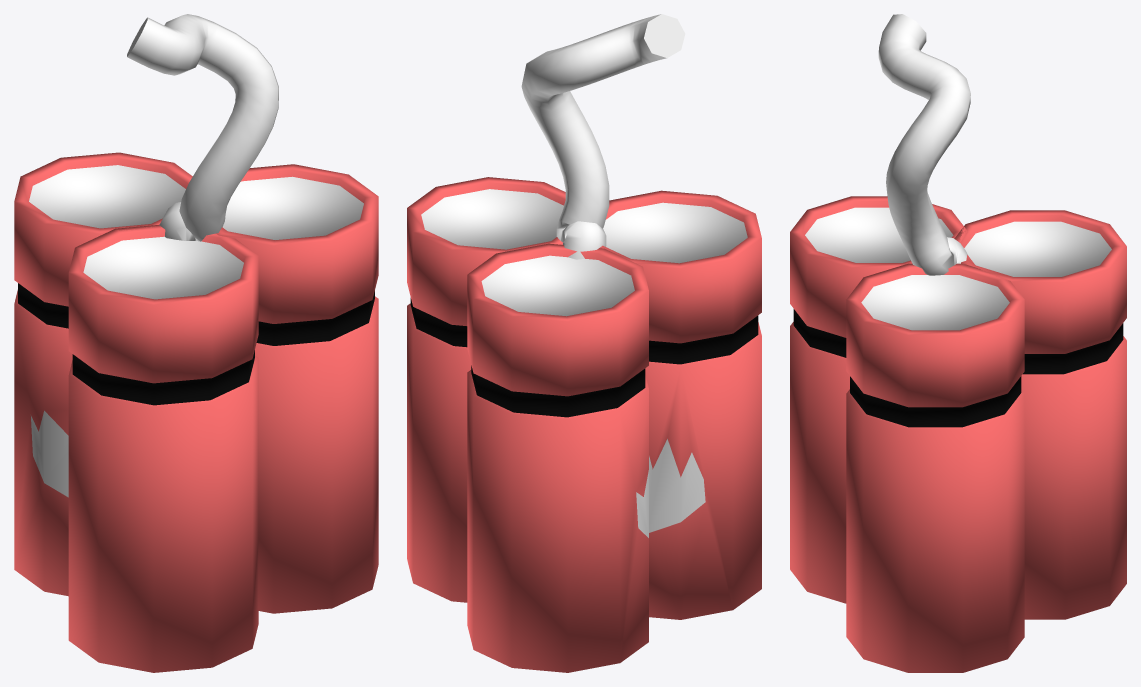
The model's file is dynamite.fbx.
3 renders of one model, left to right at view 1: azimuth 30°, elevation 25°; view 2: azimuth 150°, elevation 25°; view 3: azimuth 270°, elevation 25°, orthographic. The views are drawn at different scales.
Parts seen in each view (by area): view 1: Cylinder.001, BézierCurve; view 2: Cylinder.001, BézierCurve; view 3: Cylinder.001, BézierCurve.
Part boxes in pixels (bbox=[...]): Cylinder.001: bbox=[14, 152, 378, 672]; BézierCurve: bbox=[127, 14, 278, 241]; Cylinder.001: bbox=[407, 177, 761, 672]; BézierCurve: bbox=[521, 14, 685, 259]; Cylinder.001: bbox=[790, 196, 1126, 672]; BézierCurve: bbox=[878, 14, 970, 275].
Size of the model in its own units: 369 by 686 by 378.
